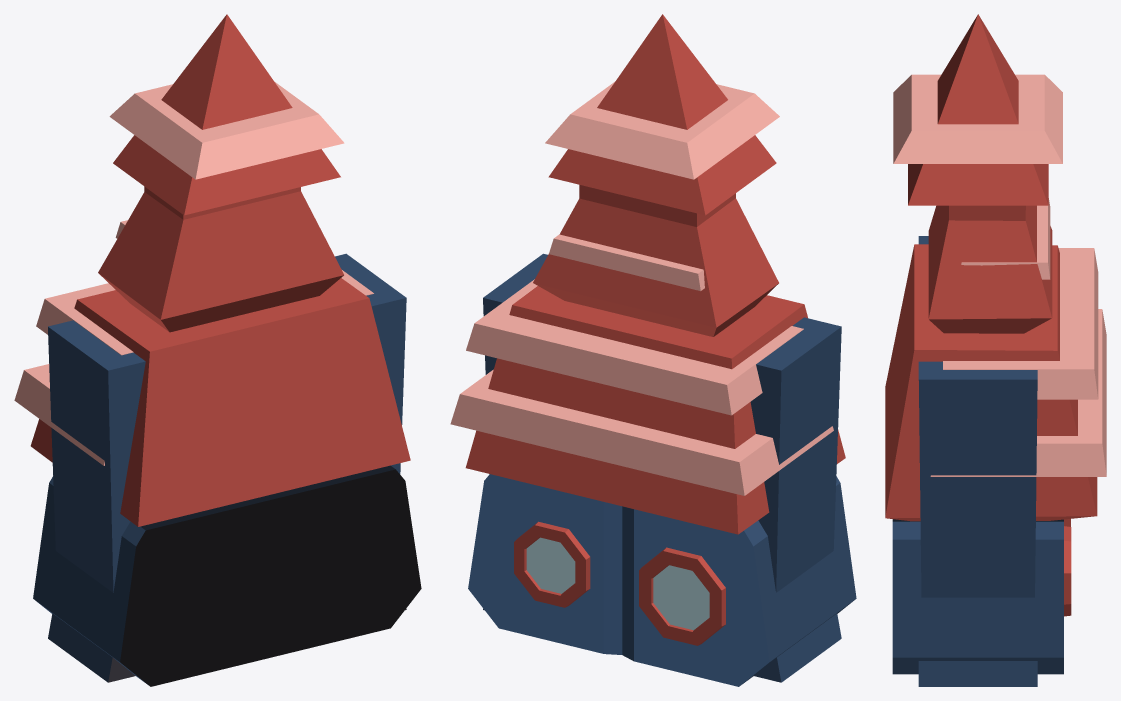
3 renders of one model, left to right at view 1: azimuth 30°, elevation 25°; view 2: azimuth 150°, elevation 25°; view 3: azimuth 270°, elevation 25°, orthographic.
Visible parts, largest first — view 1: P2x2.008, Extension.001, Body.001, Cube.159, Cube.160, Cube.154; view 2: P2x2.008, Extension.001, Body.001, Cube.159, Cube.154, Cube.160; view 3: P2x2.008, Body.001, Extension.001, Cube.159, Cube.160, Cube.154.
Part boxes in pixels (box(x1,y1,x2,y2)): P2x2.008: box(30, 278, 421, 686); Extension.001: box(36, 186, 373, 355); Body.001: box(48, 253, 406, 592); Cube.159: box(113, 14, 340, 215); Cube.160: box(109, 81, 344, 179); Cube.154: box(14, 364, 104, 465); P2x2.008: box(465, 286, 856, 686); Extension.001: box(466, 184, 803, 415); Body.001: box(483, 253, 841, 592); Cube.159: box(548, 14, 776, 215); Cube.154: box(450, 369, 833, 495); Cube.160: box(545, 82, 779, 179); P2x2.008: box(885, 244, 1097, 686); Body.001: box(918, 236, 1037, 597); Extension.001: box(928, 198, 1098, 399); Cube.159: box(908, 14, 1048, 205); Cube.160: box(893, 74, 1062, 163); Cube.154: box(930, 309, 1106, 476).
Bounding box in the file's own units: 4.04 × 7.84 × 2.61.
Materials: 1 (1 with a texture image).
